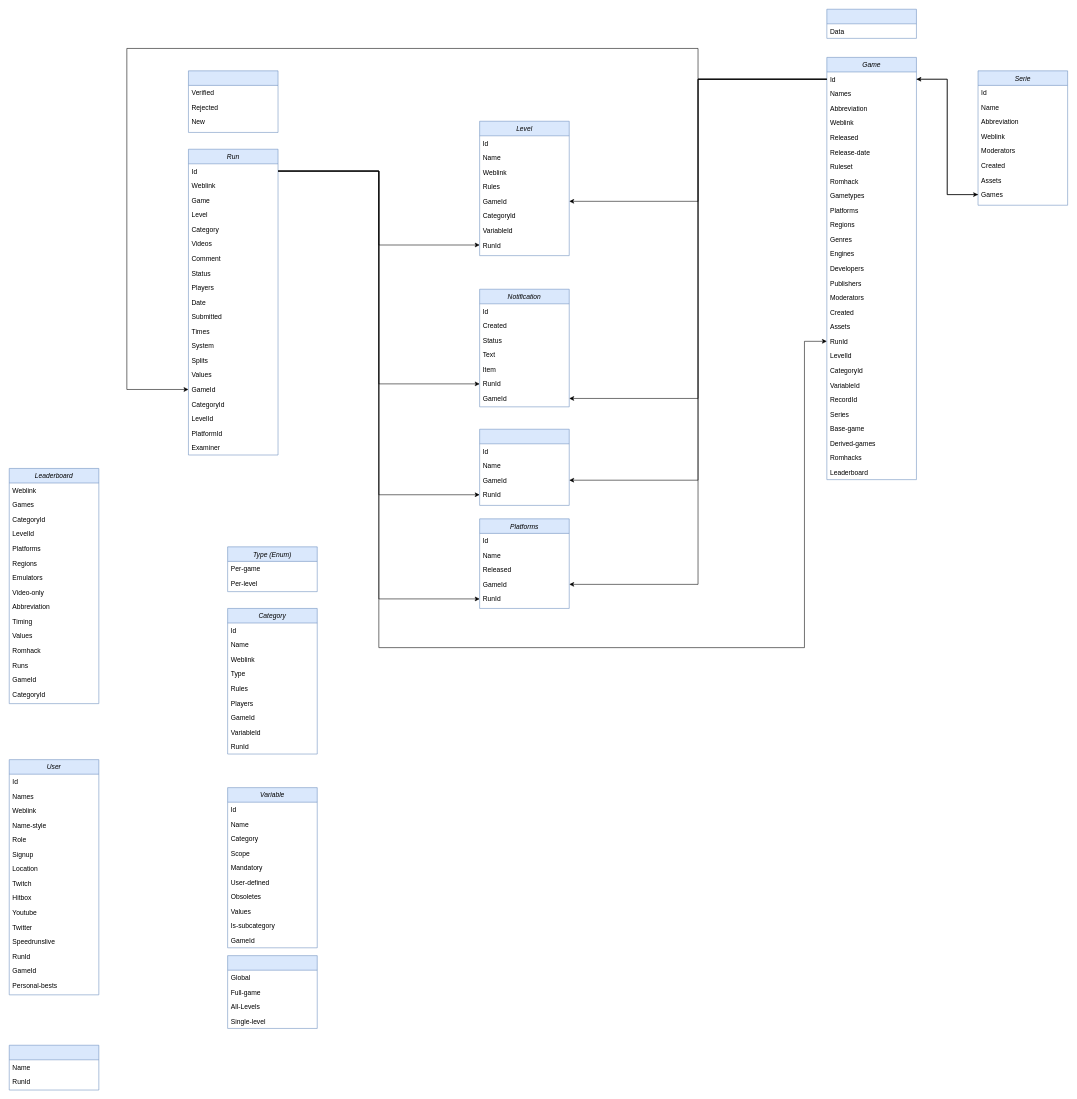
This 1077x1099 diagram has some shape labels left out. The shapes that lost their labels are listed below. From the top down, each one's box as (x1, y1, x2, y2) in pixels, then its label:
(826, 9, 916, 38): Profile
(188, 70, 278, 132): Status (Enum
(479, 429, 569, 505): Region
(227, 955, 317, 1028): Scope (Enum)
(9, 1045, 99, 1090): Guest
